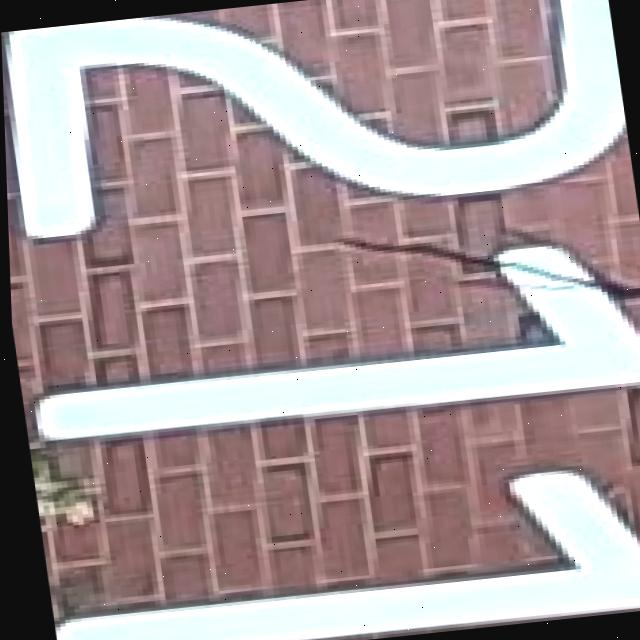character: (0, 0, 636, 248), (8, 226, 640, 452), (34, 445, 640, 640)
